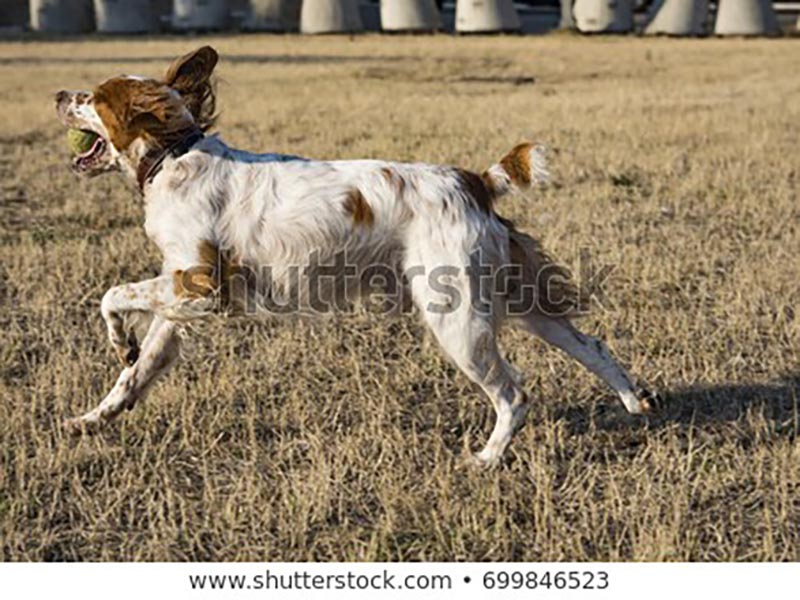cane da caccia: (43, 49, 678, 469)
